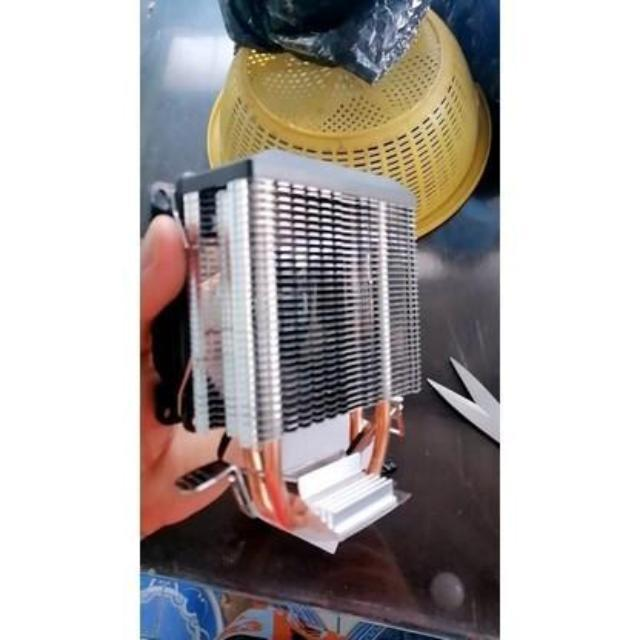CPU_Fan: (148, 148, 426, 550)
